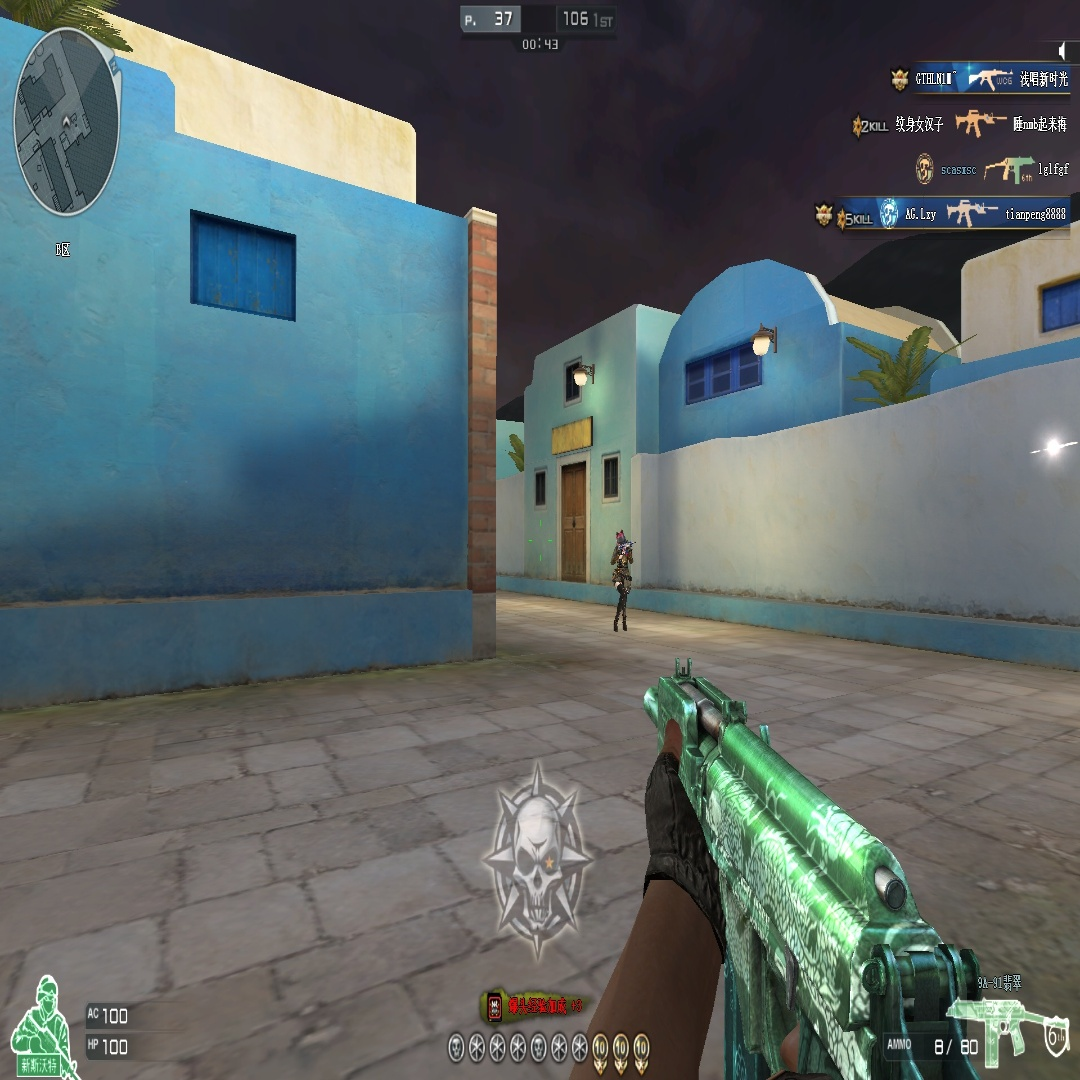p: (611, 528, 633, 630)
